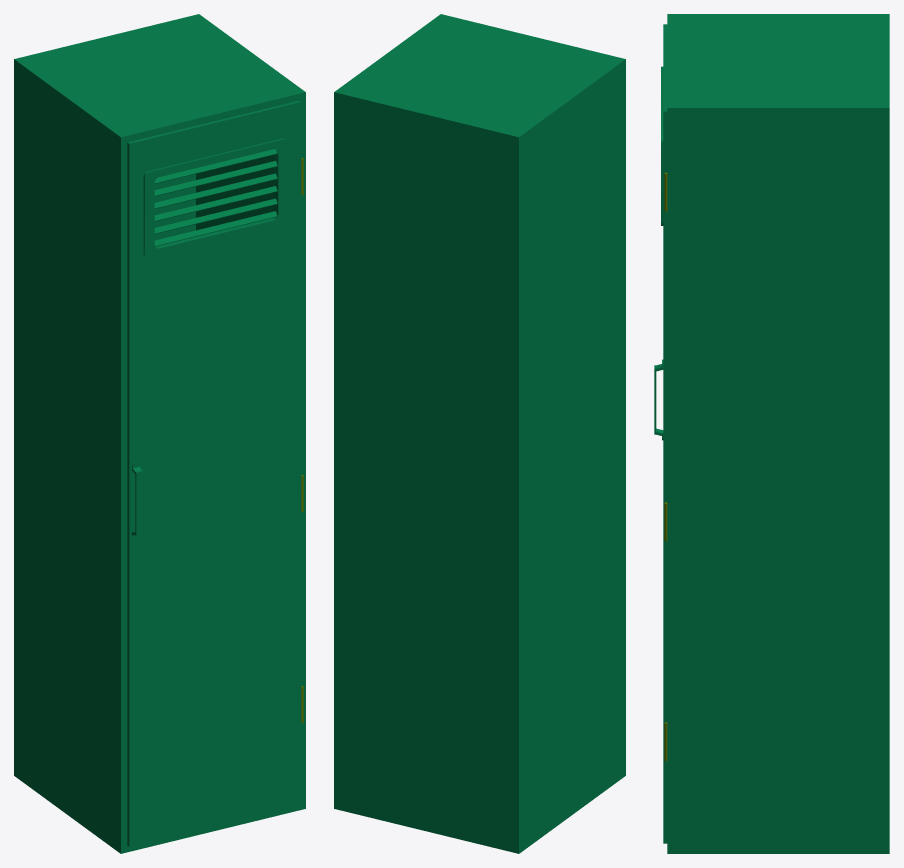
The model's file is SM_Locker.fbx.
3 renders of one model, left to right at view 1: azimuth 30°, elevation 25°; view 2: azimuth 150°, elevation 25°; view 3: azimuth 270°, elevation 25°, orthographic. The views are drawn at different scales.
Visible parts, largest first — view 1: SM_Locker_Door, SM_Locker; view 2: SM_Locker; view 3: SM_Locker, SM_Locker_Door.
Part boxes in pixels (x1,y1,x2,y2): SM_Locker_Door: [127, 100, 301, 846]; SM_Locker: [14, 14, 305, 853]; SM_Locker: [334, 14, 625, 853]; SM_Locker: [664, 14, 889, 853]; SM_Locker_Door: [654, 24, 667, 843].
Size of the model in its own units: 55 by 204 by 58.22.
